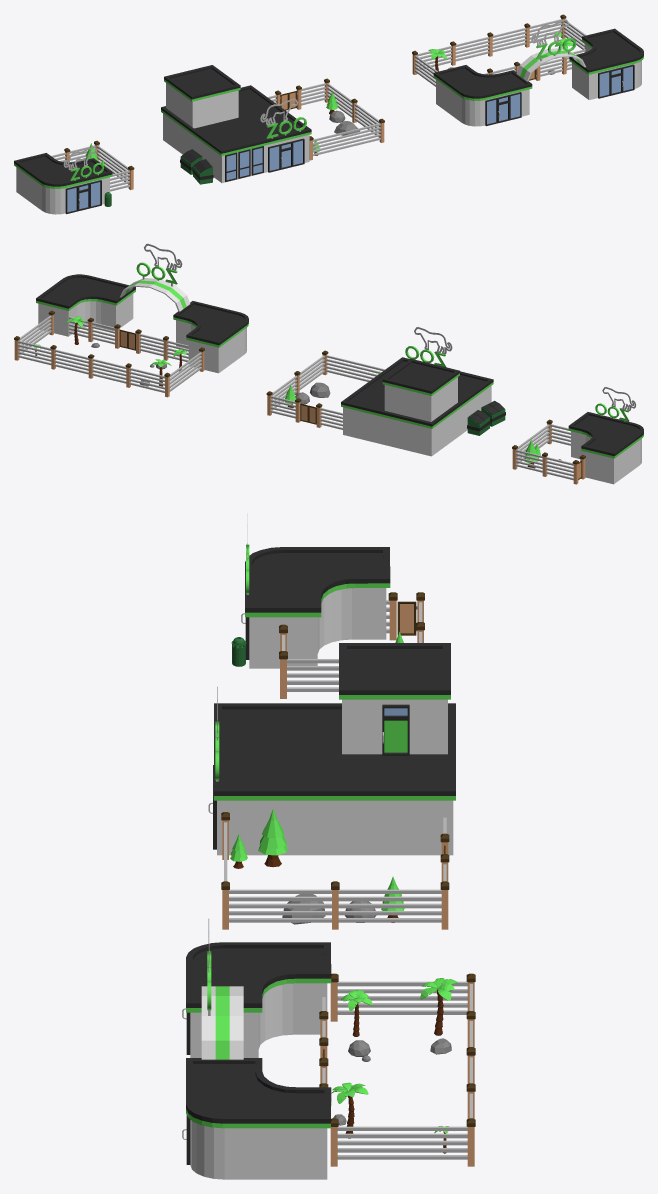
Rendered from zoo.fbx.
3 renders of one model, top to bottom at view 1: azimuth 30°, elevation 25°; view 2: azimuth 150°, elevation 25°; view 3: azimuth 270°, elevation 25°, orthographic. The views are drawn at different scales.
Visible parts, largest first — view 1: zoo_t2, zoo_t3, zoo_t1; view 2: zoo_t3, zoo_t2, zoo_t1; view 3: zoo_t2, zoo_t3, zoo_t1.
Boxes of the visible parts, <box> form: zoo_t2: <box>161,65,384,184</box>; zoo_t3: <box>412,14,643,126</box>; zoo_t1: <box>14,140,134,214</box>; zoo_t3: <box>14,243,248,397</box>; zoo_t2: <box>266,327,505,456</box>; zoo_t1: <box>512,387,643,484</box>; zoo_t2: <box>208,643,455,929</box>; zoo_t3: <box>182,919,475,1179</box>; zoo_t1: <box>231,513,424,698</box>.
Bounding box in the file's own units: 3950 × 540 × 856.
